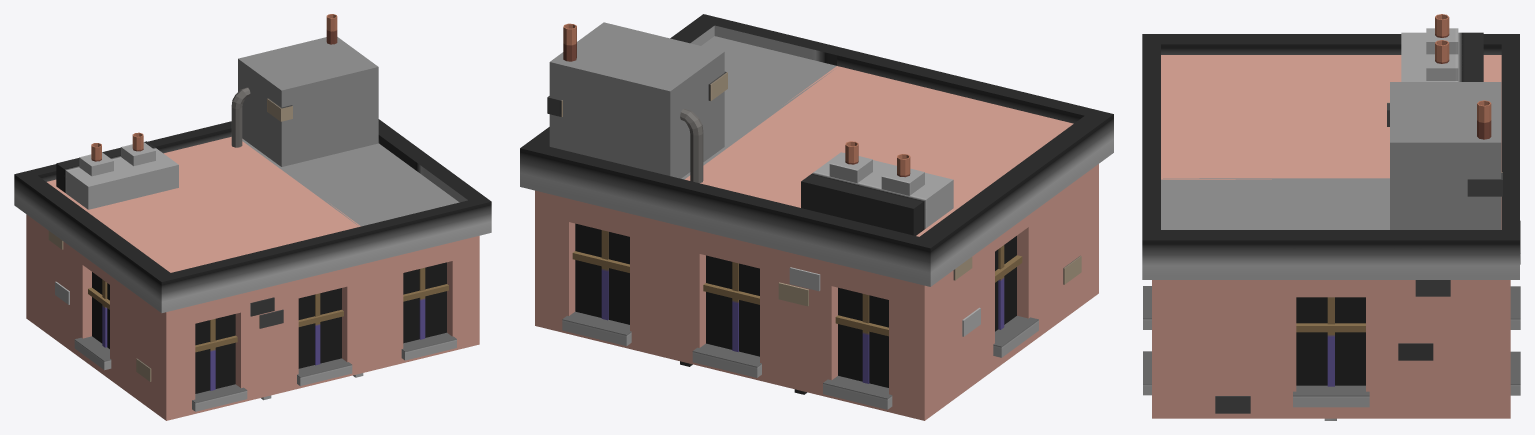
Rendered from house2_top.fbx.
3 views of the same model, side by side, from view 1: azimuth 30°, elevation 25°; view 2: azimuth 150°, elevation 25°; view 3: azimuth 270°, elevation 25° (orthographic). The views are drawn at different scales.
Parts seen in each view (by area): view 1: polySurface298, pCube2, polySurface229, polySurface175, polySurface166, polySurface154, polySurface223, polySurface251, polySurface176; view 2: polySurface298, pCube2, polySurface229, polySurface187, polySurface199, polySurface211, polySurface223, polySurface251, polySurface188, polySurface212, polySurface200, polySurface270 (+1 smaller); view 3: polySurface298, pCube2, polySurface229, polySurface226, polySurface228, polySurface227, polySurface287, polySurface284, polySurface280, polySurface283, polySurface232, polySurface187 (+3 smaller).
Boxes of the visible parts, x1=… form: polySurface298: x1=14, y1=119, x2=491, y2=420; pCube2: x1=238, y1=37, x2=378, y2=166; polySurface229: x1=56, y1=141, x2=178, y2=209; polySurface175: x1=401, y1=332, x2=456, y2=360; polySurface166: x1=297, y1=358, x2=352, y2=386; polySurface154: x1=192, y1=384, x2=247, y2=411; polySurface223: x1=74, y1=336, x2=111, y2=370; polySurface251: x1=231, y1=87, x2=250, y2=147; polySurface176: x1=419, y1=267, x2=425, y2=339; polySurface298: x1=520, y1=14, x2=1113, y2=420; pCube2: x1=549, y1=22, x2=724, y2=178; polySurface229: x1=801, y1=152, x2=953, y2=235; polySurface187: x1=562, y1=311, x2=631, y2=346; polySurface199: x1=692, y1=343, x2=761, y2=377; polySurface211: x1=823, y1=376, x2=892, y2=409; polySurface223: x1=993, y1=315, x2=1038, y2=357; polySurface251: x1=680, y1=109, x2=703, y2=183; polySurface188: x1=601, y1=230, x2=608, y2=320; polySurface212: x1=862, y1=294, x2=869, y2=383; polySurface200: x1=732, y1=262, x2=738, y2=351; polySurface270: x1=789, y1=267, x2=820, y2=291; polySurface298: x1=1142, y1=34, x2=1519, y2=418; pCube2: x1=1390, y1=82, x2=1501, y2=229; polySurface229: x1=1401, y1=28, x2=1483, y2=81; polySurface226: x1=1293, y1=385, x2=1369, y2=407; polySurface228: x1=1296, y1=323, x2=1365, y2=332; polySurface227: x1=1327, y1=297, x2=1334, y2=386; polySurface287: x1=1467, y1=172, x2=1502, y2=196; polySurface284: x1=1398, y1=343, x2=1433, y2=360; polySurface280: x1=1215, y1=396, x2=1250, y2=413; polySurface283: x1=1415, y1=280, x2=1450, y2=296; polySurface232: x1=1477, y1=100, x2=1491, y2=139; polySurface187: x1=1510, y1=351, x2=1520, y2=395.
Bounding box in the file's own units: 1428 × 1033 × 1107.
